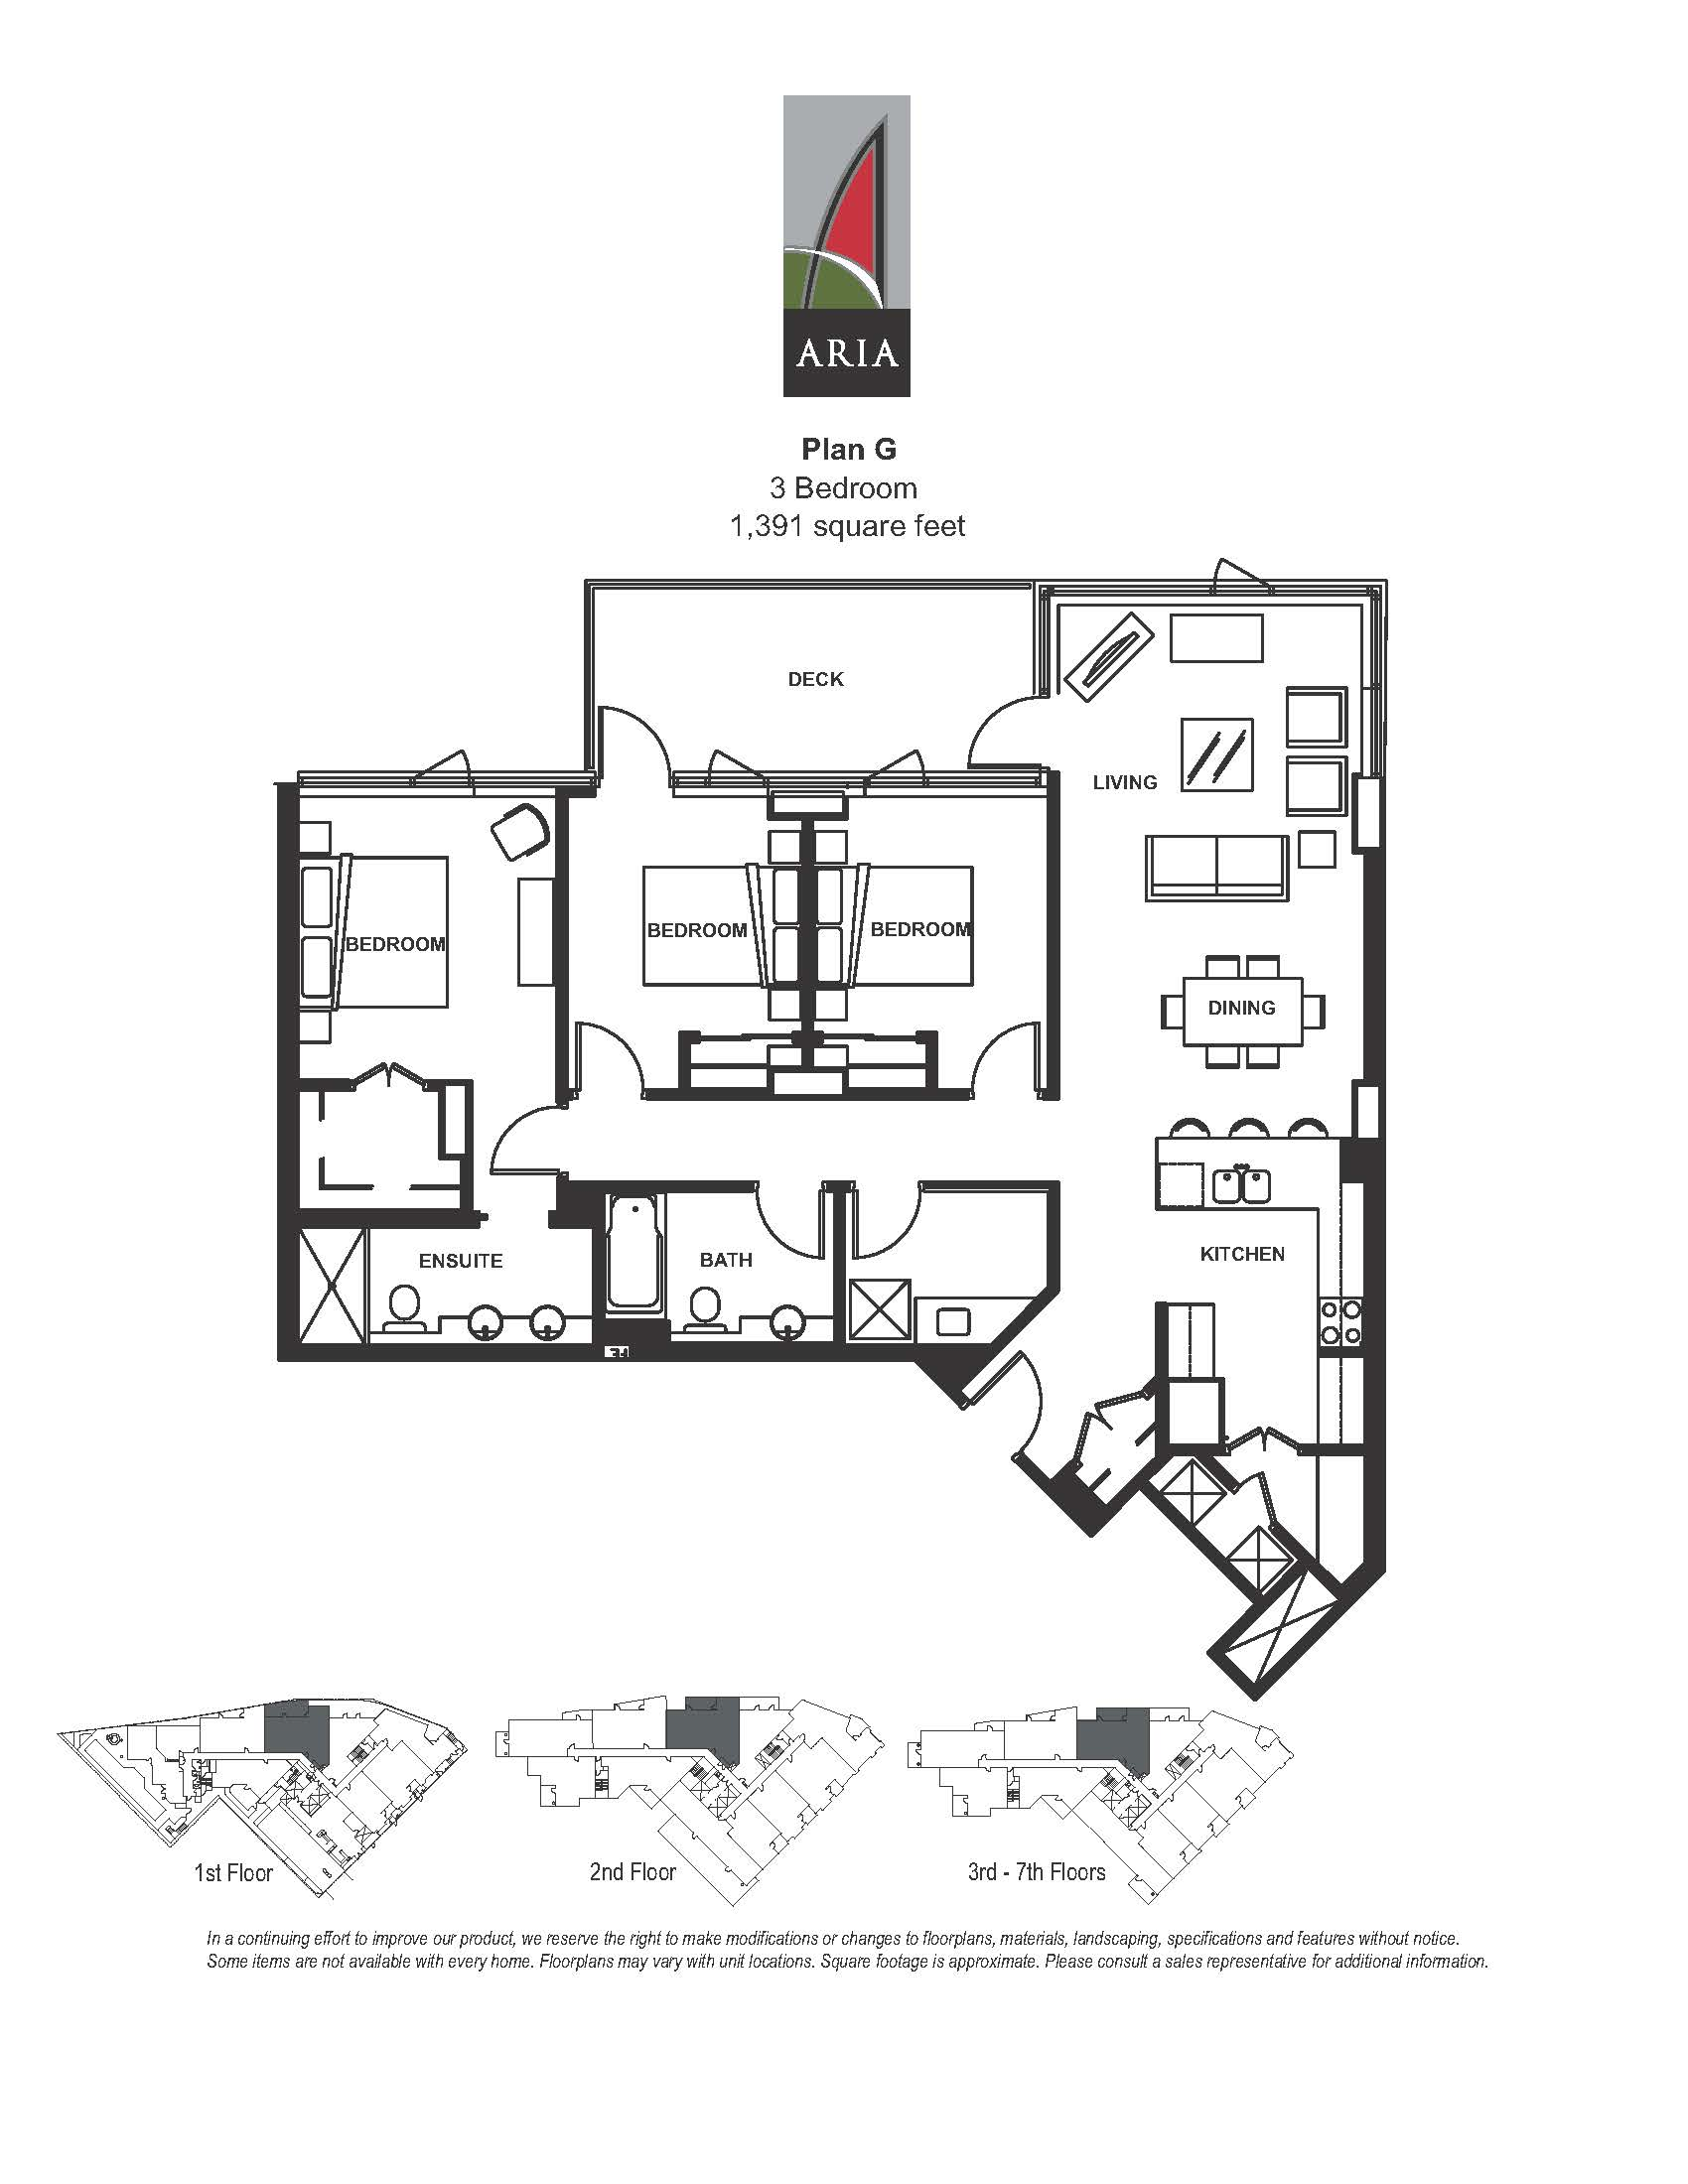door: (981, 1347, 1060, 1441), (573, 1005, 653, 1085), (957, 693, 1035, 773), (963, 1010, 1044, 1087), (486, 1099, 553, 1189), (848, 1197, 929, 1271), (755, 1197, 826, 1264), (590, 706, 672, 762), (1229, 1418, 1298, 1454), (420, 741, 477, 773), (881, 739, 938, 771), (699, 743, 755, 775)
